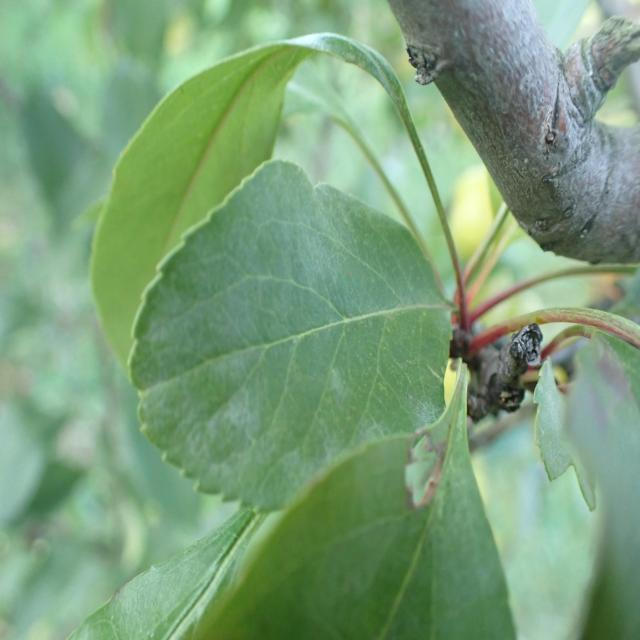Black Rot: (373, 412, 482, 523)
Powdery_mildew: (144, 210, 433, 473)
